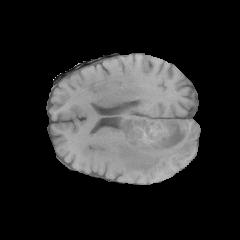glioma: (118, 118, 197, 176)
